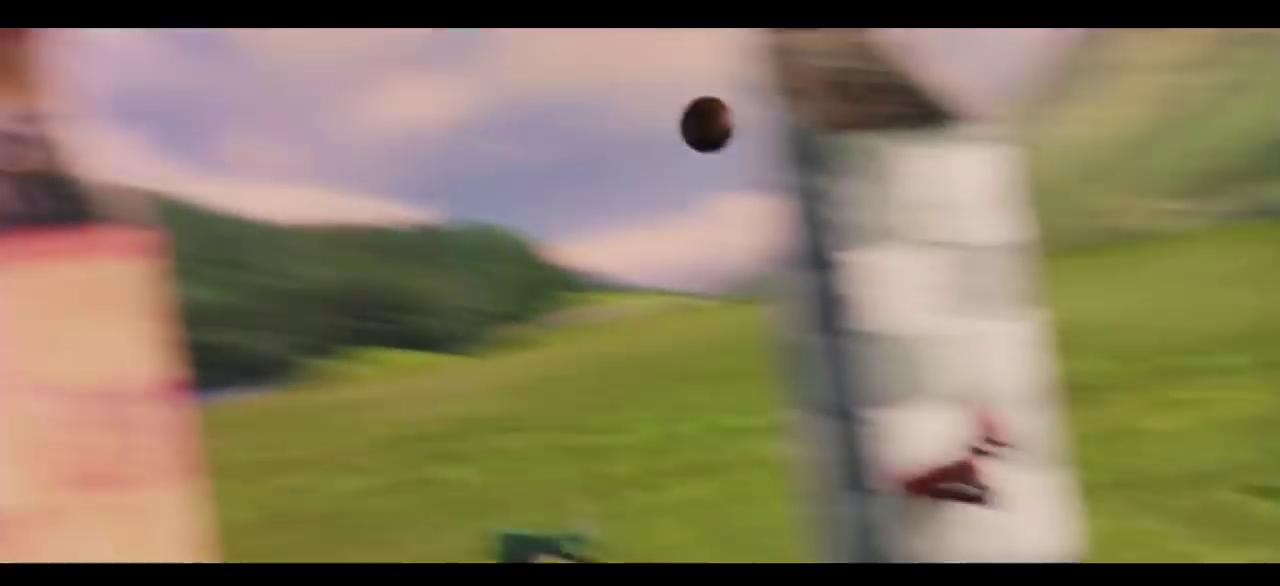quaffle: (676, 96, 734, 152)
